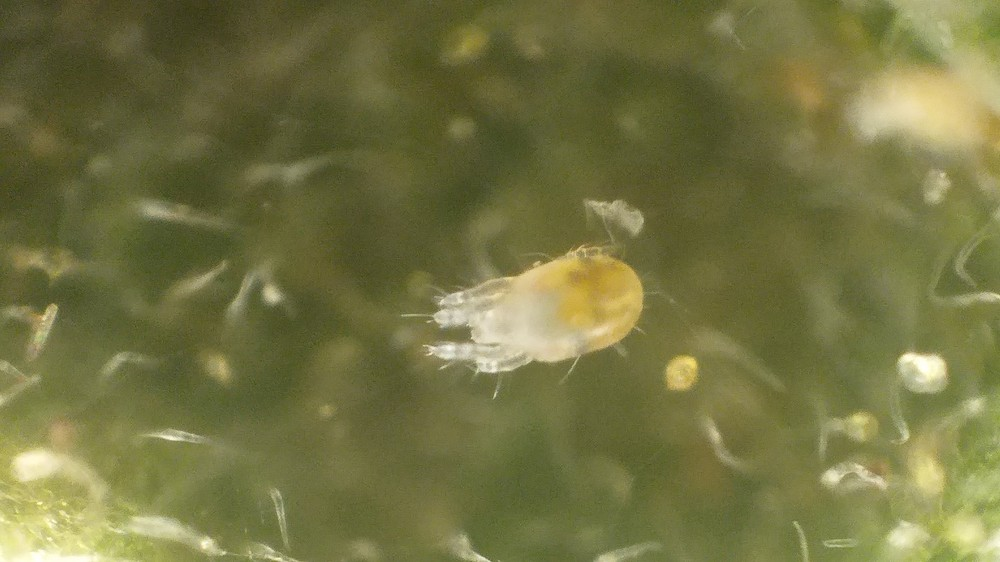Aracnido Rojo: (413, 216, 676, 410)
